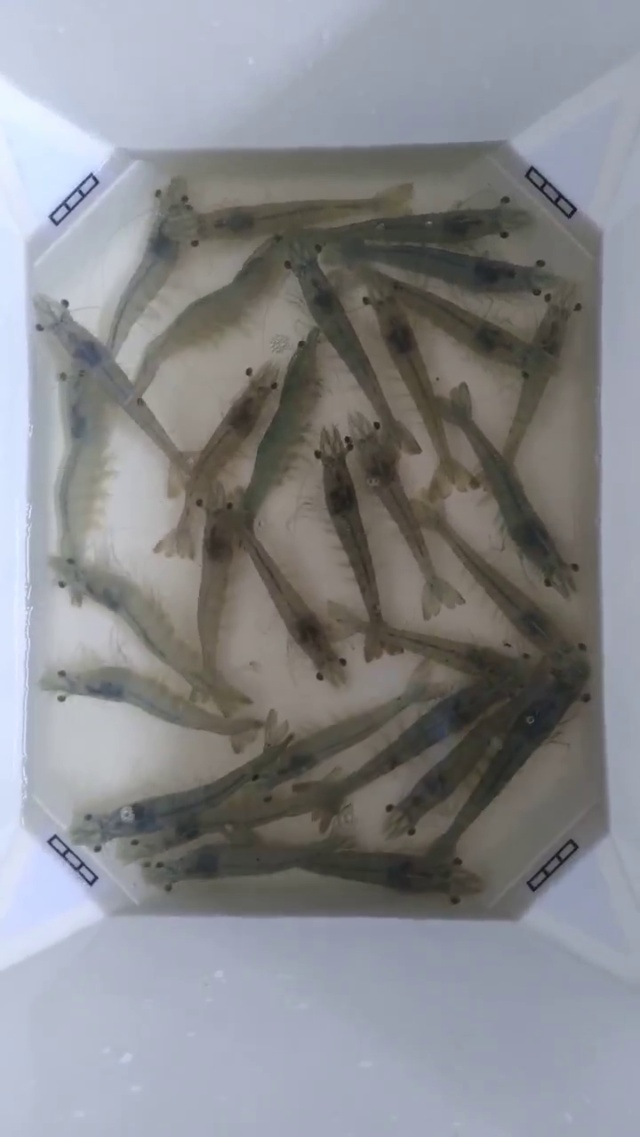shrimp: (516, 108, 639, 486), (544, 410, 639, 721), (566, 496, 639, 805), (0, 471, 105, 685), (0, 541, 82, 801), (69, 321, 190, 478), (0, 818, 119, 969), (442, 383, 541, 562), (112, 150, 199, 344), (154, 393, 255, 559), (369, 428, 472, 580), (452, 143, 556, 293), (443, 524, 561, 652), (135, 770, 241, 911), (154, 477, 243, 638), (245, 672, 338, 812), (0, 196, 54, 433), (196, 334, 288, 469), (187, 156, 282, 283), (273, 594, 367, 714), (388, 792, 487, 905), (285, 232, 362, 372), (315, 412, 378, 540), (320, 216, 425, 269)
